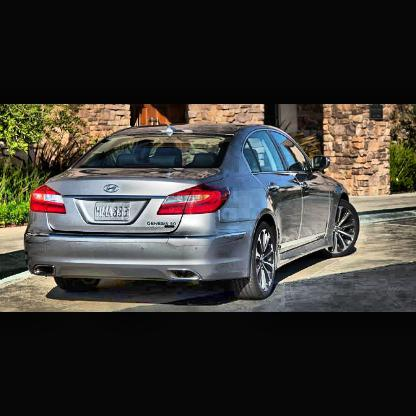Hyundai Genesis Sedan 2012: (25, 125, 363, 303)
